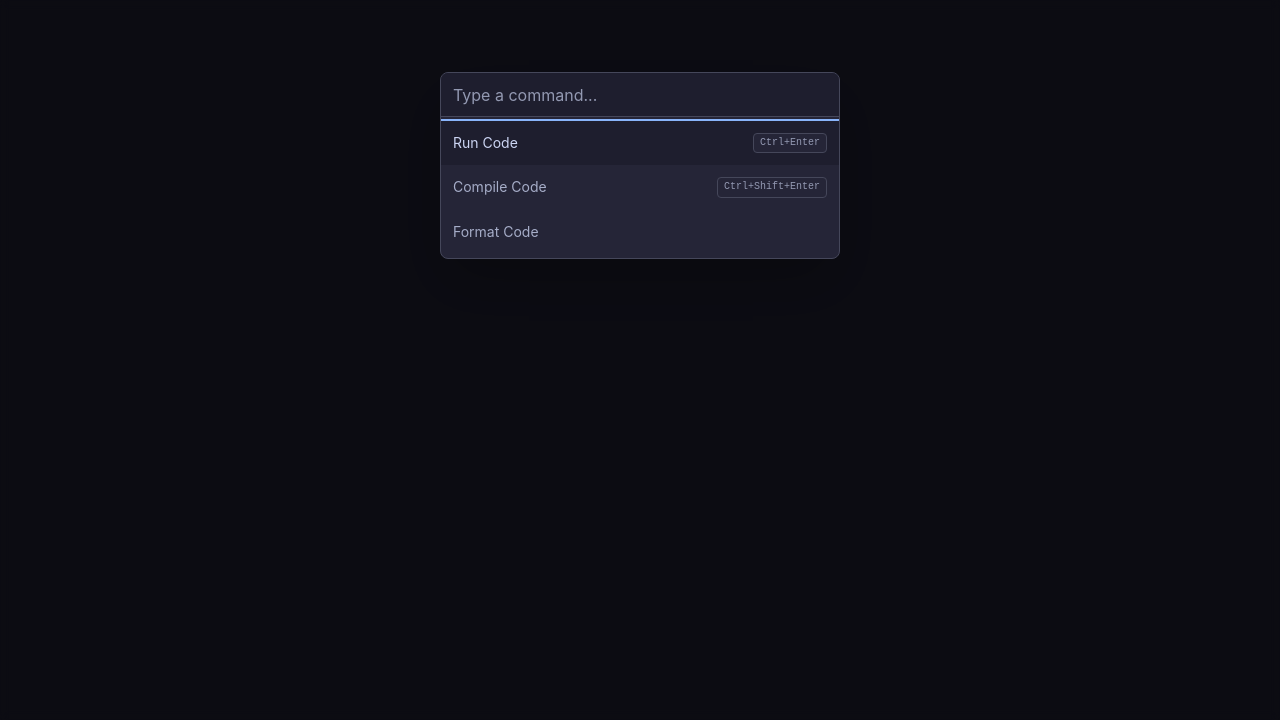
it: CommandPalette › shows no-results message for unmatched query
Type "zzzznotfound" into the dropdown named "Search commands" at (640, 95), box [441, 73, 839, 117]
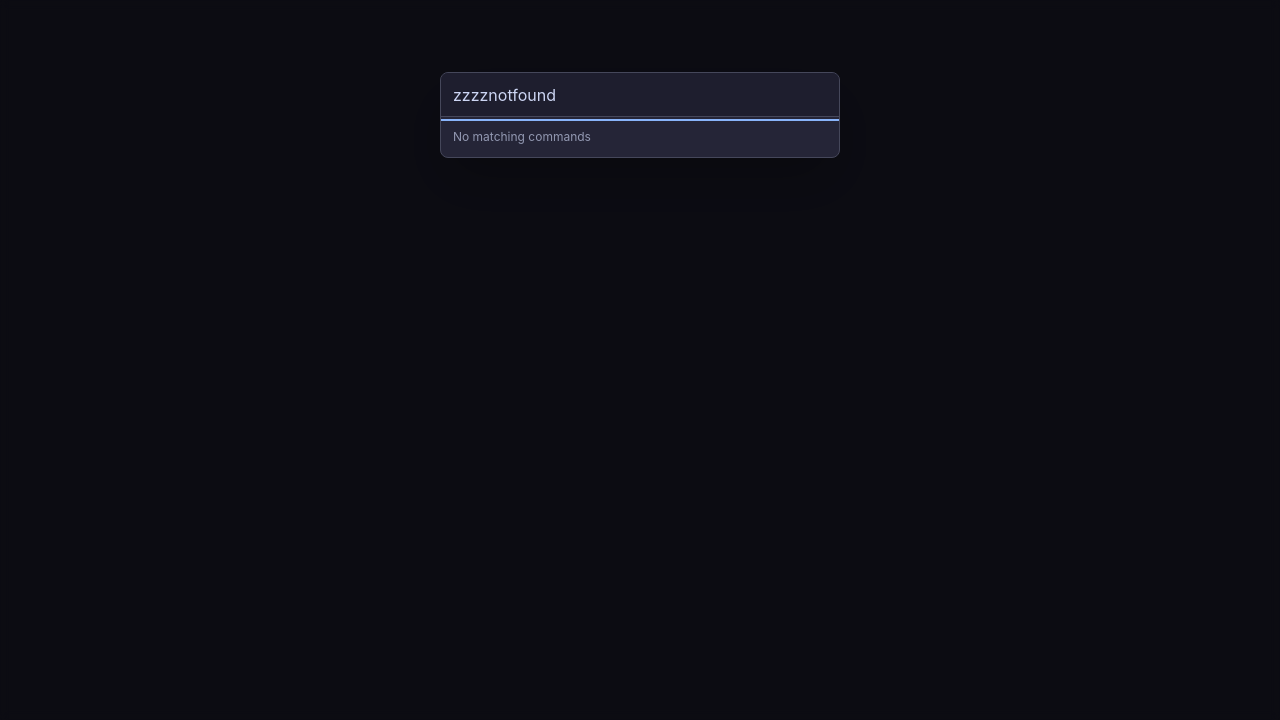
Now the list item "No matching commands" is shown, box [453, 129, 591, 144]
